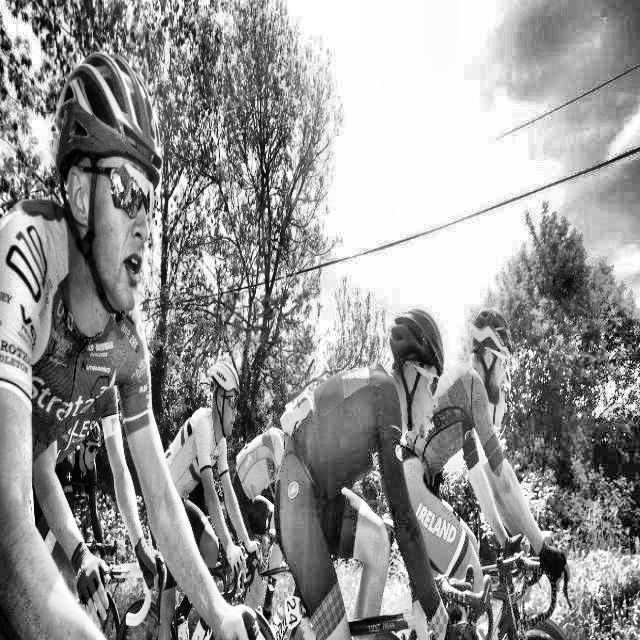Helmet: (49, 46, 164, 332), (388, 300, 446, 444), (466, 298, 514, 411), (204, 351, 243, 448)
